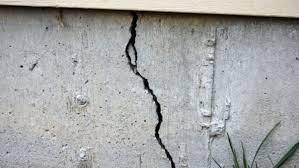crack: (123, 9, 175, 167)
